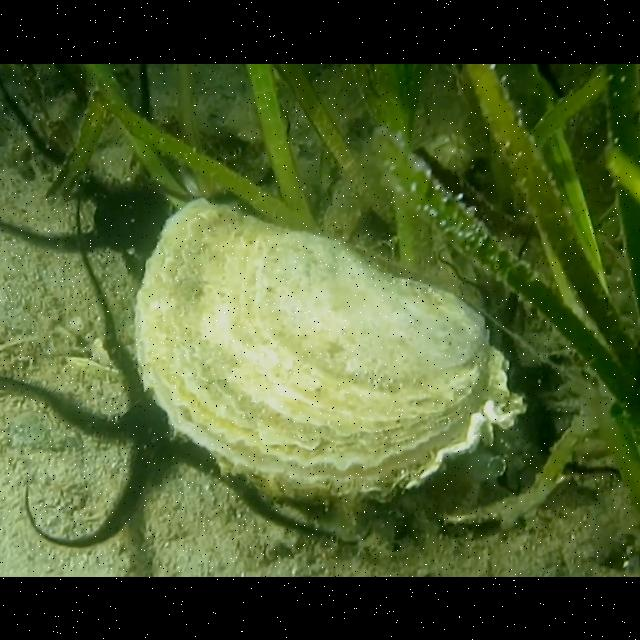Oyster-Open: (131, 195, 529, 503)
